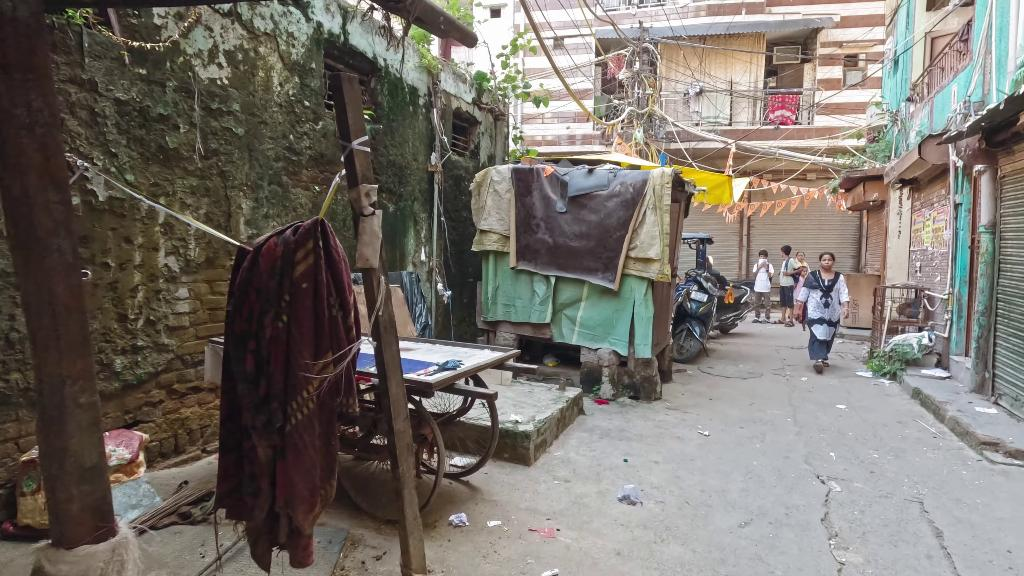garbage: (619, 477, 645, 511), (443, 505, 471, 531), (920, 364, 954, 383), (533, 564, 563, 576), (975, 404, 1001, 417), (832, 399, 851, 413)
